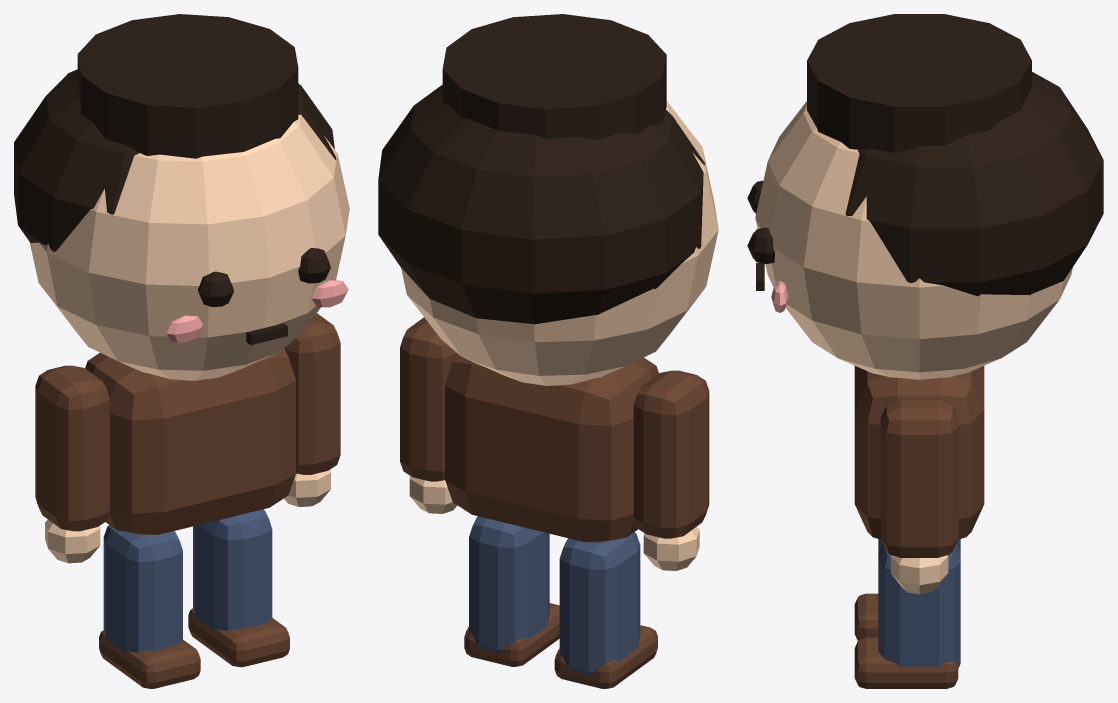
The model's file is kar_penjaga_warkop.fbx.
The picture shows the model from 3 angles, left to right: view 1: azimuth 30°, elevation 25°; view 2: azimuth 150°, elevation 25°; view 3: azimuth 270°, elevation 25°; orthographic projection.
Parts seen in each view (by area): view 1: kar_penjaga_warkop; view 2: kar_penjaga_warkop; view 3: kar_penjaga_warkop.
Part boxes in pixels (x1=…): kar_penjaga_warkop: x1=14, y1=14, x2=349, y2=688; kar_penjaga_warkop: x1=378, y1=14, x2=718, y2=688; kar_penjaga_warkop: x1=747, y1=14, x2=1103, y2=688.
Bounding box in the file's own units: 76 × 152 × 82.44.
1 material, 1 textured.
